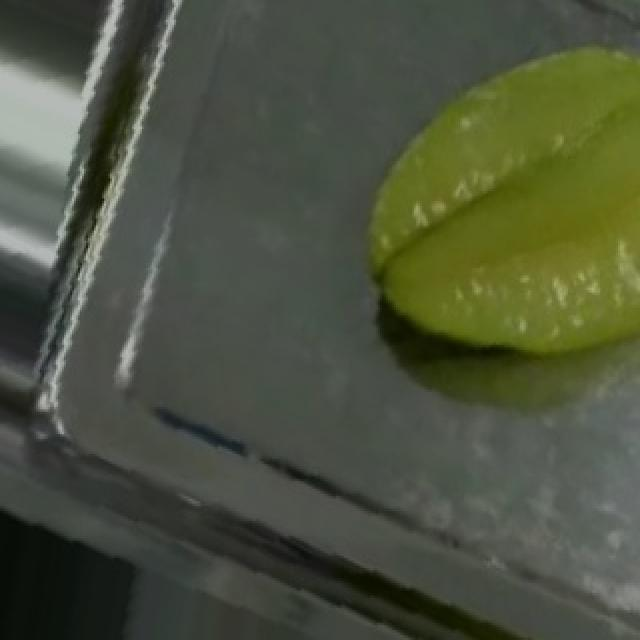fruit: (320, 5, 640, 422)
